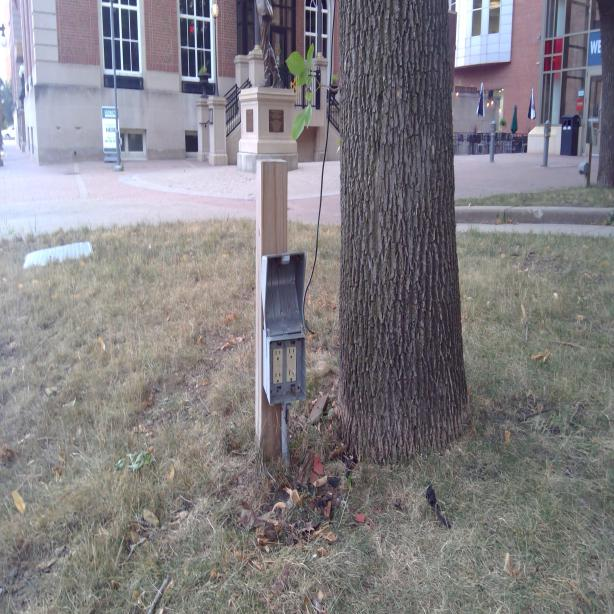typeb: (273, 369, 282, 386), (287, 367, 296, 383), (287, 346, 297, 360), (274, 350, 282, 361)
